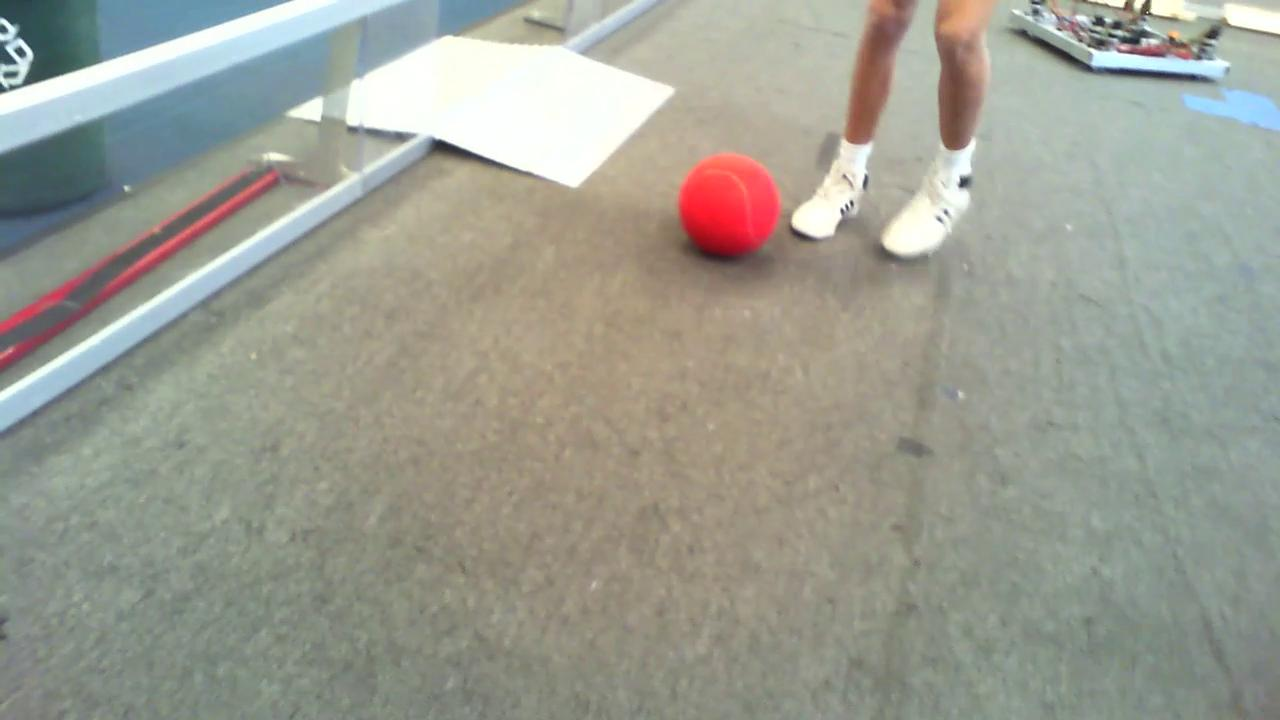Red_Ball: (667, 139, 783, 261)
